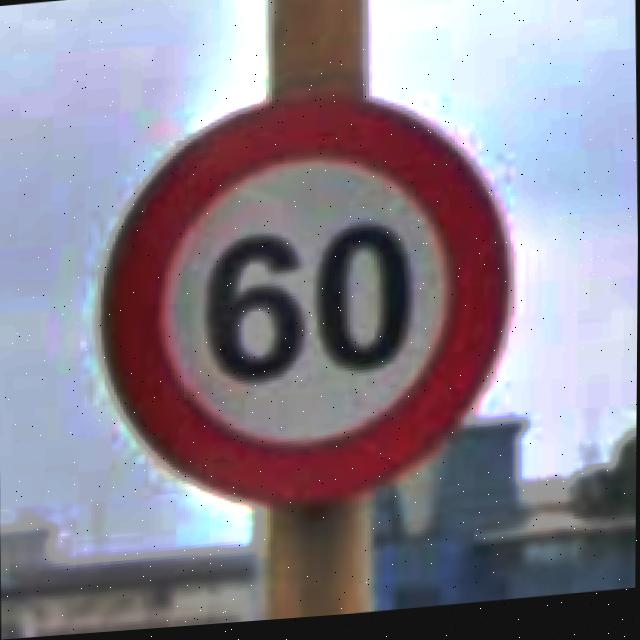max60: (90, 76, 519, 529)
